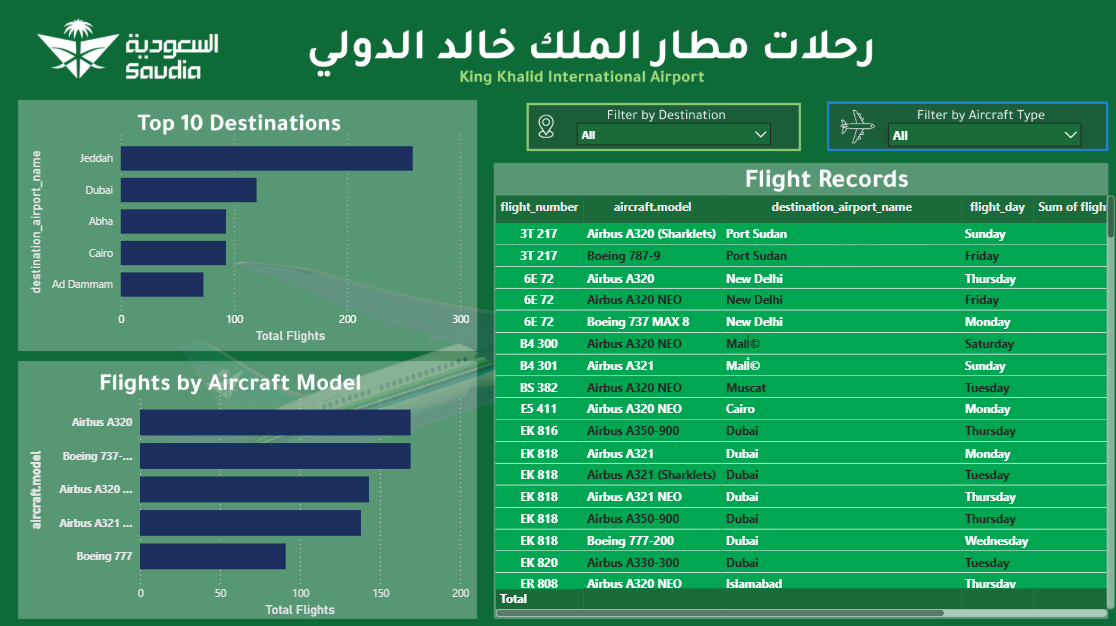

The page's visual inventory and layout, read from the dashboard file:
{"tool":"powerbi","page":{"name":"Page 2","canvas":[1280,720],"ordinal":1},"visuals":[{"type":"image","box":[0,0,1280,720],"z":0},{"type":"slicer","fields":{"Values":["flights_cleaned.destination_airport_name"]},"box":[649.3,130.7,242,63.3],"z":1000},{"type":"slicer","title":"Filter by Destination","fields":{"Values":["flights_cleaned.aircraft.model"]},"box":[1005.7,130,241.4,70],"z":2000},{"type":"clusteredBarChart","fields":{"Category":["flights_cleaned.destination_airport_name"],"Y":["flights_cleaned.Total Flights"]},"box":[28.8,140,513.8,257.5],"z":3000},{"type":"clusteredBarChart","fields":{"Category":["flights_cleaned.aircraft.model"],"Y":["flights_cleaned.Total Flights"]},"box":[28.8,440,513.8,270],"z":4000},{"type":"tableEx","fields":{"Values":["flights_cleaned.flight_number","flights_cleaned.aircraft.model","flights_cleaned.destination_airport_name","flights_cleaned.flight_day","Sum(flights_cleaned.flight_hour)","flights_cleaned.status","flights_cleaned.codeshareStatus"]},"box":[561.7,218.3,718.3,491.7],"z":5000}]}

Visuals, with their boxes in screenshot pixels (x1, y1, x2, y2), scaled from the page's 1280x720 canvas onto the 1116x626 screenshot:
image: 0:0:1115:625
slicer - flights_cleaned.destination_airport_name: 566:114:777:169
"Filter by Destination" slicer: 877:113:1087:174
clusteredBarChart - flights_cleaned.destination_airport_name x flights_cleaned.Total Flights: 25:122:473:346
clusteredBarChart - flights_cleaned.aircraft.model x flights_cleaned.Total Flights: 25:383:473:617
tableEx - flights_cleaned.flight_number x flights_cleaned.aircraft.model: 490:190:1115:617
